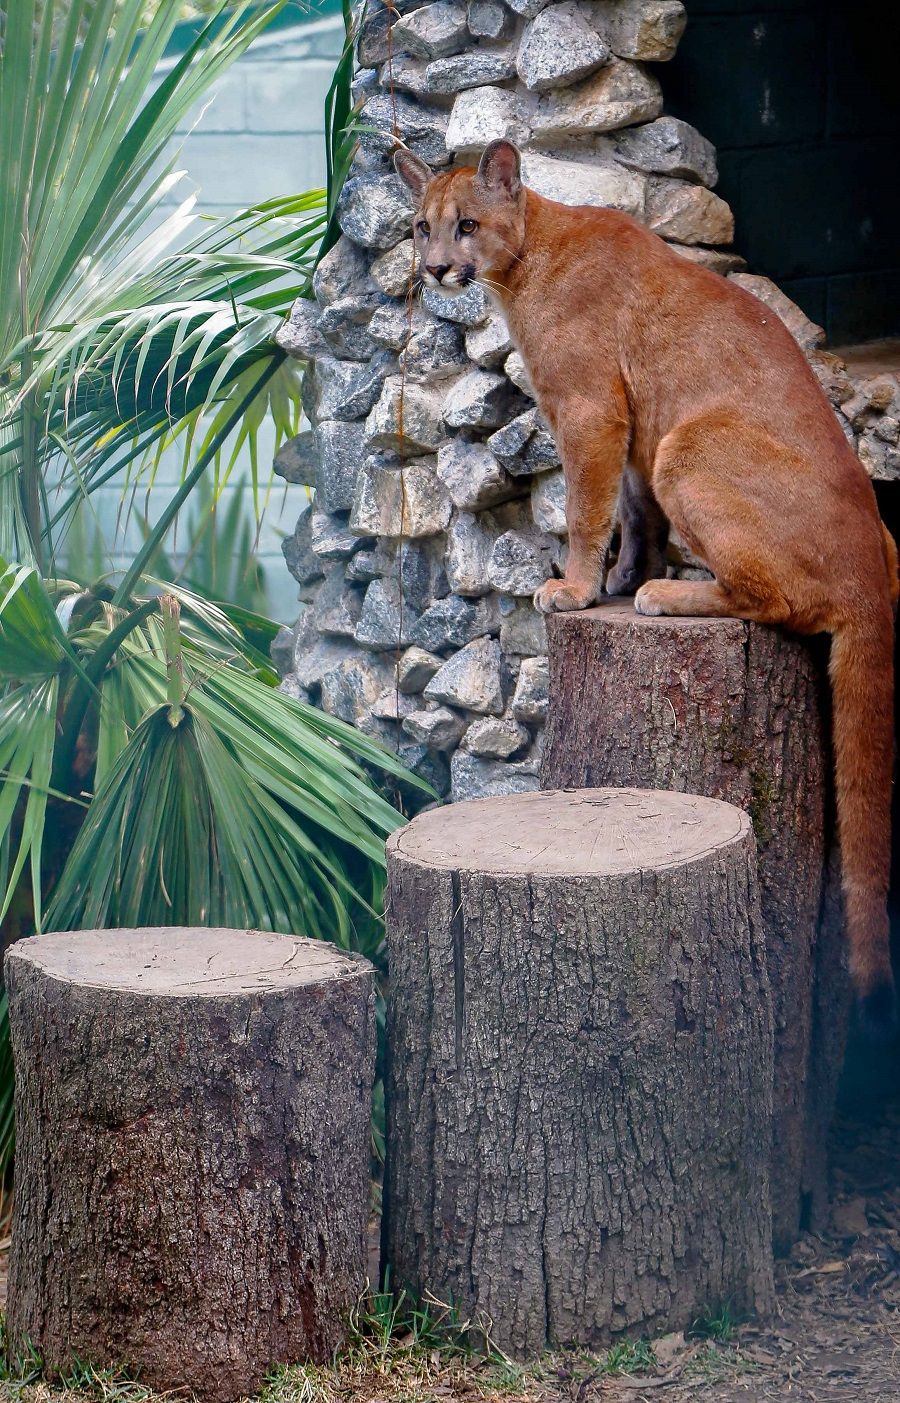OncaParda: (375, 128, 895, 1013)
